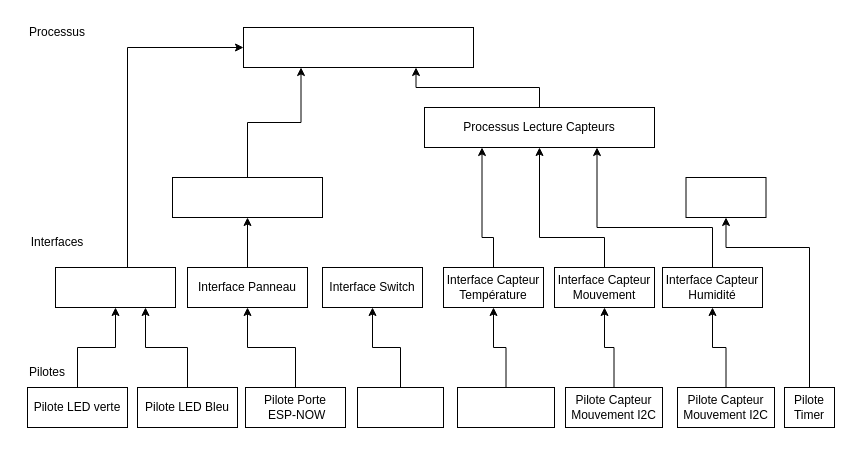
The diagram is 852 pixels wide and 453 high, and some of its shapes have lost their labels. Each missing label, with the centre of its shape:
Interface LED: (115,287)
Pilote Capteur Température I2C: (505,407)
Pilote Switch 1: (400,407)
Processus Principale: (358,47)
Service Base de Temps: (725,197)
Service Syncronisation des communications: (247,197)
